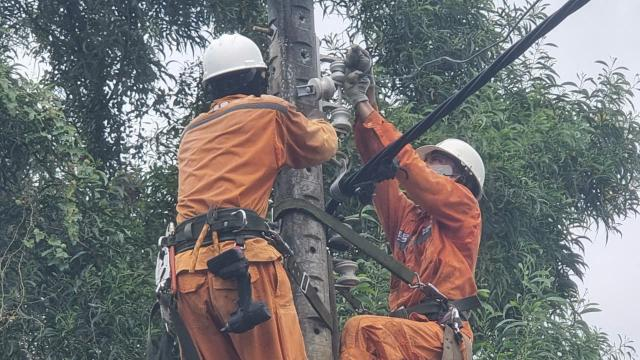gloves: (348, 46, 385, 92), (334, 70, 376, 110), (302, 100, 343, 126)
harness: (156, 206, 298, 274), (356, 284, 480, 335)
helmet: (410, 136, 496, 202), (182, 25, 274, 80)
